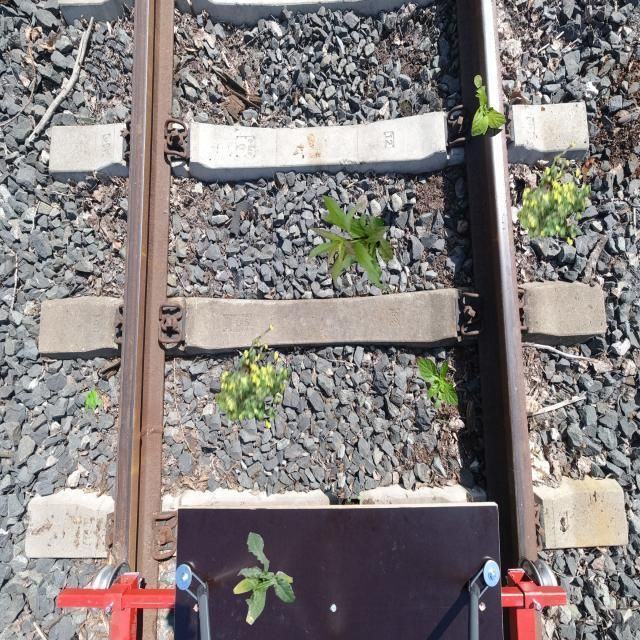Plant: (305, 195, 393, 292), (215, 324, 290, 429), (517, 141, 592, 246), (233, 532, 296, 626), (471, 75, 506, 138), (417, 357, 458, 410), (84, 389, 105, 414)
